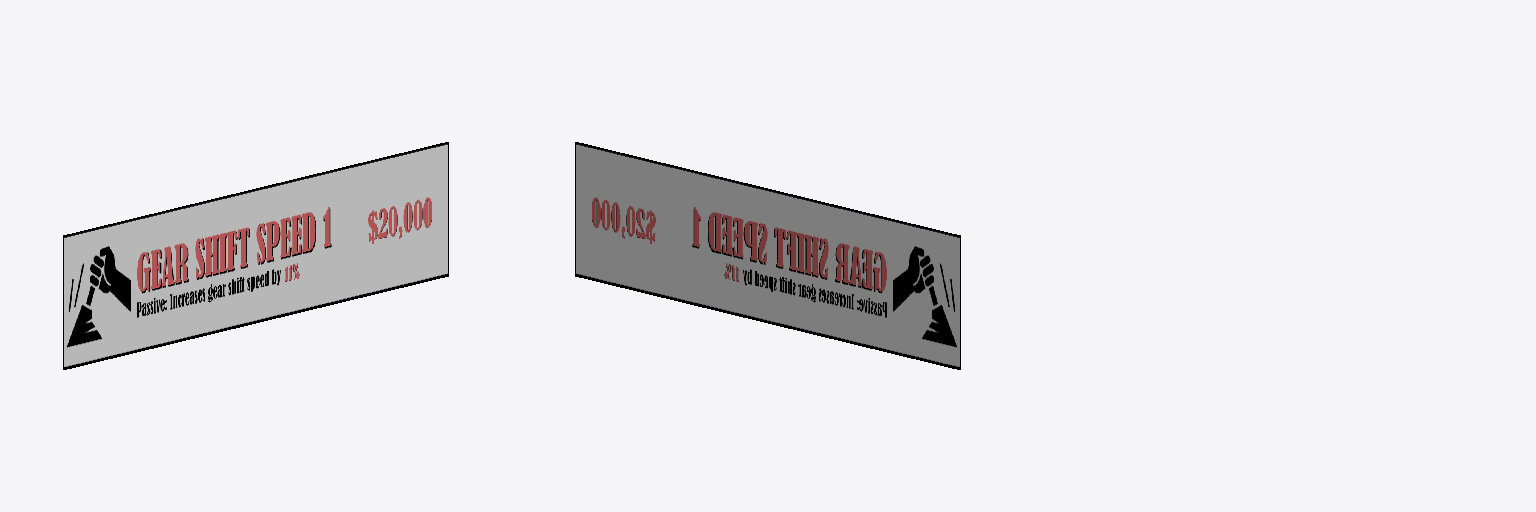
3 views of the same model, side by side, from view 1: azimuth 30°, elevation 25°; view 2: azimuth 150°, elevation 25°; view 3: azimuth 270°, elevation 25° (orthographic).
Parts seen in each view (by area): view 1: Plane.004; view 2: Plane.004; view 3: none.
Part boxes in pixels (bbox=[...]): Plane.004: bbox=[63, 142, 448, 369]; Plane.004: bbox=[575, 142, 960, 369].
Bounding box in the file's own units: 0.9 × 0.3 × 0.
1 materials, 1 textured.